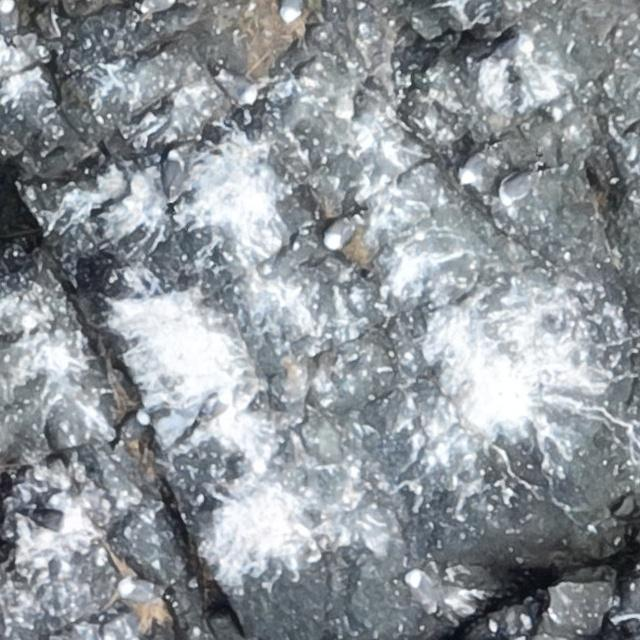umineko: (404, 569, 446, 614), (161, 148, 189, 207), (458, 145, 491, 183), (499, 171, 537, 197), (324, 217, 355, 248), (222, 73, 256, 101), (118, 581, 158, 602), (120, 410, 148, 439), (31, 510, 70, 530), (210, 390, 231, 420), (283, 0, 303, 20)
